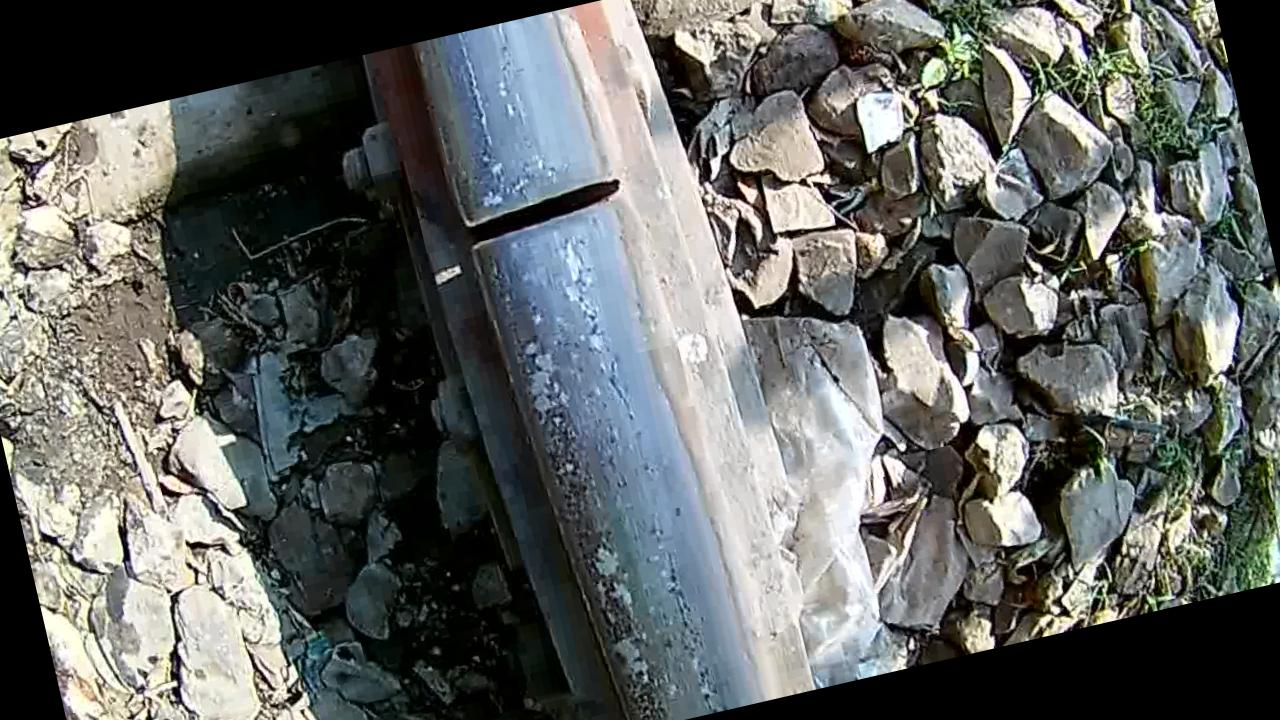clip_missing: (475, 244, 752, 720)
